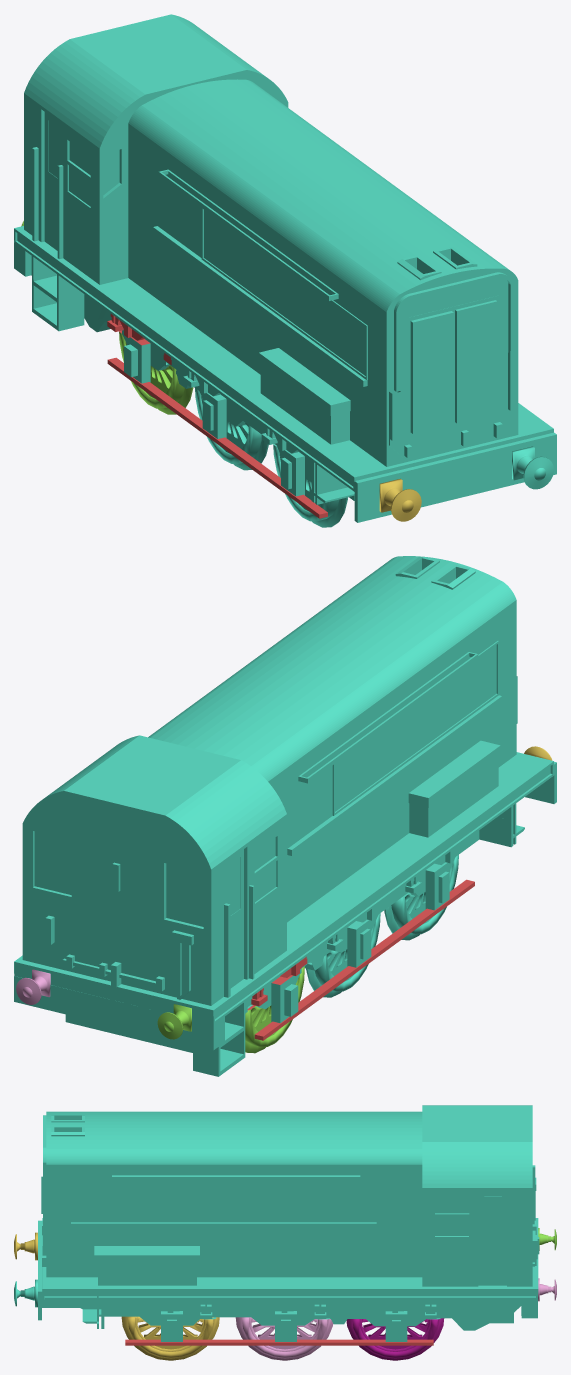
Rendered from shunter.obj.
The picture shows the model from 3 angles, top to bottom: view 1: azimuth 30°, elevation 25°; view 2: azimuth 150°, elevation 25°; view 3: azimuth 270°, elevation 25°; orthographic projection. The views are drawn at different scales.
Parts seen in each view (by area): view 1: Group_001, Group_009, Group_1_002, Group_1_001, Group_007, Group_008, Group_1_004; view 2: Group_001, Group_009, Group_1_004, Group_1_002, Group_1_001, Group_006, Group_005; view 3: Group_001, Group_1_003, Group_1_006, Group_1_005, Group_010, Group_008, Group_007.
Boxes of the visible parts, x1,y1,x2,y2 form: Group_001: (14, 14, 556, 522); Group_009: (107, 357, 327, 518); Group_1_002: (195, 388, 268, 470); Group_1_001: (119, 332, 193, 414); Group_007: (379, 478, 421, 521); Group_008: (512, 446, 553, 489); Group_1_004: (273, 445, 347, 527); Group_001: (14, 556, 556, 1076); Group_009: (254, 879, 474, 1040); Group_1_004: (384, 855, 458, 940); Group_1_002: (306, 913, 380, 997); Group_1_001: (245, 966, 304, 1053); Group_006: (16, 969, 50, 1004); Group_005: (157, 1004, 191, 1039); Group_001: (38, 1105, 539, 1341); Group_1_003: (121, 1316, 219, 1360); Group_1_006: (235, 1317, 333, 1360); Group_1_005: (346, 1318, 444, 1360); Group_010: (125, 1339, 433, 1345); Group_008: (14, 1279, 37, 1307); Group_007: (14, 1232, 37, 1260).
Size of the model in its own units: 890 by 1282 by 2878.
